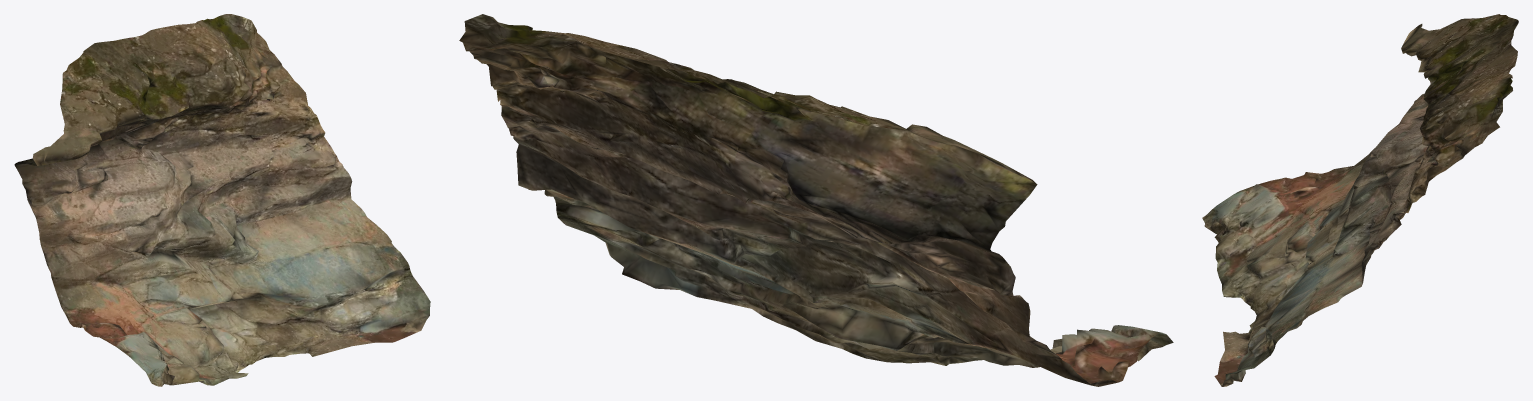
File: rock_face_01.glb
3 renders of one model, left to right at view 1: azimuth 30°, elevation 25°; view 2: azimuth 150°, elevation 25°; view 3: azimuth 270°, elevation 25°, orthographic. The views are drawn at different scales.
Visible parts, largest first — view 1: rock_face_01; view 2: rock_face_01; view 3: rock_face_01.
Boxes of the visible parts, x1=… form: rock_face_01: x1=14, y1=14, x2=430, y2=386; rock_face_01: x1=459, y1=14, x2=1173, y2=386; rock_face_01: x1=1202, y1=14, x2=1518, y2=386.
Bounding box in the file's own units: 4.94 × 3.56 × 3.82.
Materials: 1 (1 with a texture image).
